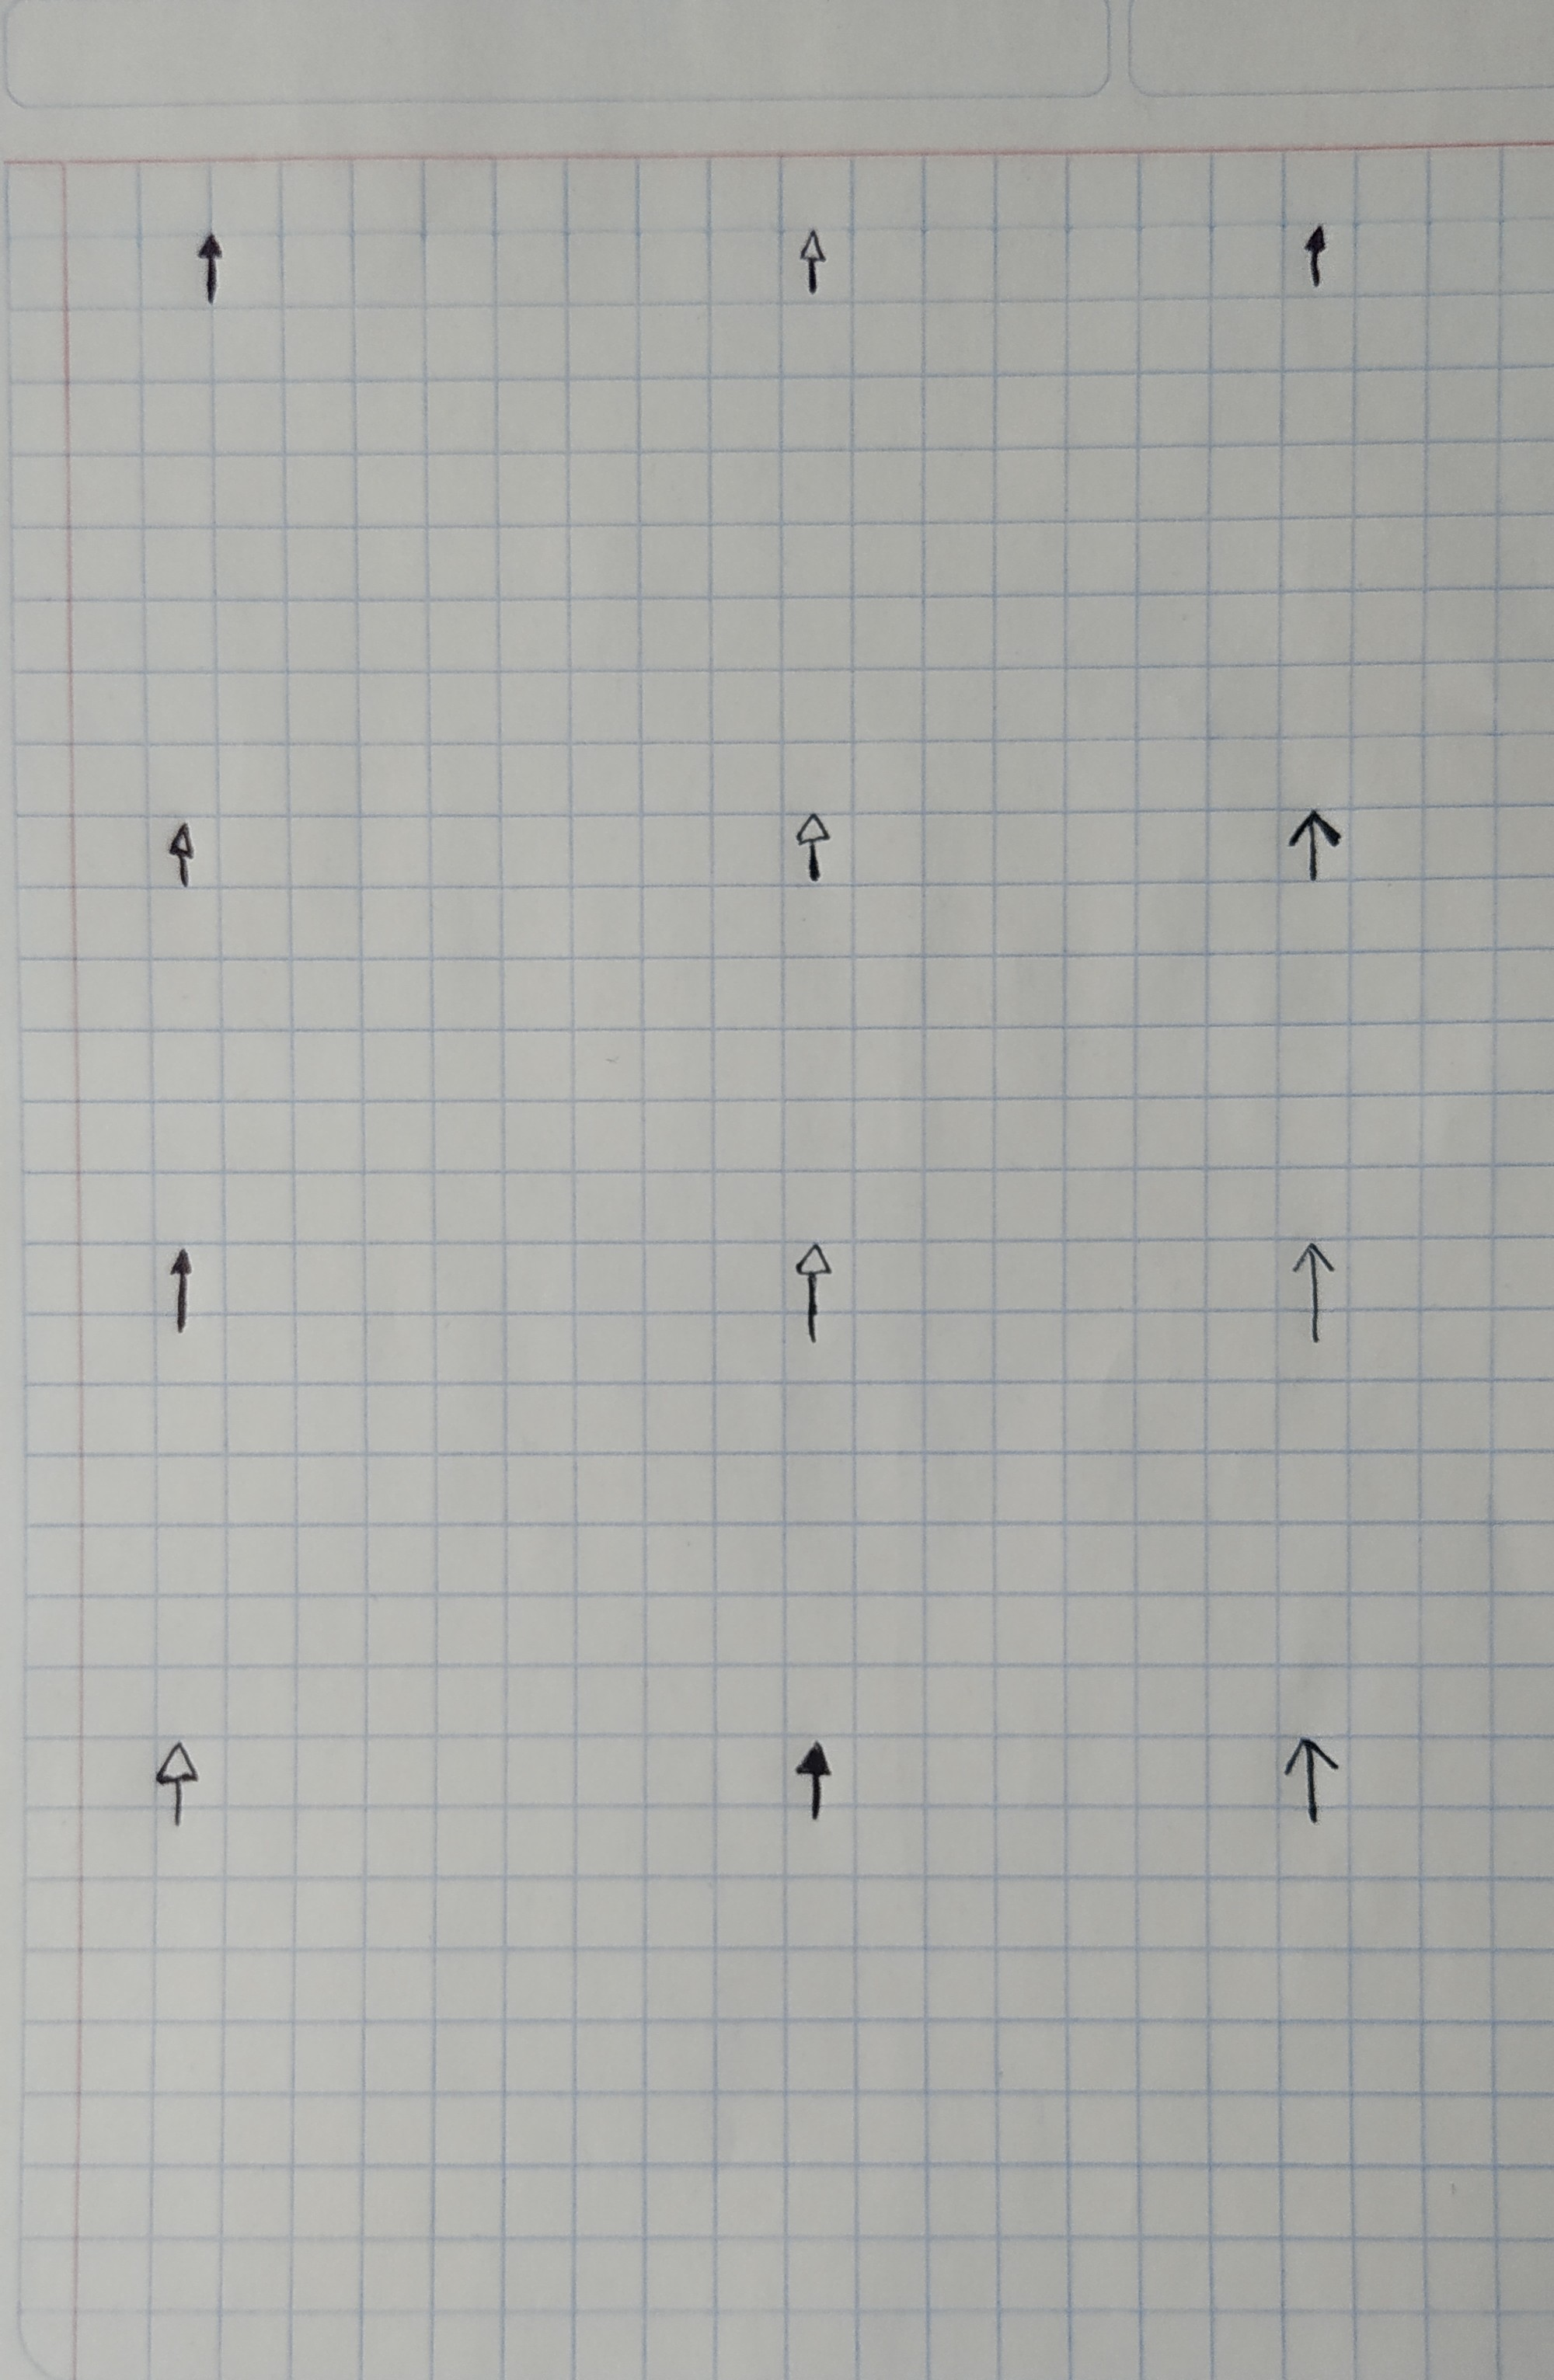arrow_line_up: (1282, 1733, 1339, 1839), (786, 1239, 836, 1346), (1287, 1242, 1342, 1337), (1282, 808, 1348, 888), (149, 1740, 199, 1830), (789, 1740, 834, 1834), (163, 815, 208, 897), (194, 231, 232, 319), (163, 1247, 199, 1339), (1296, 220, 1332, 298), (789, 810, 829, 881), (794, 226, 829, 307)
